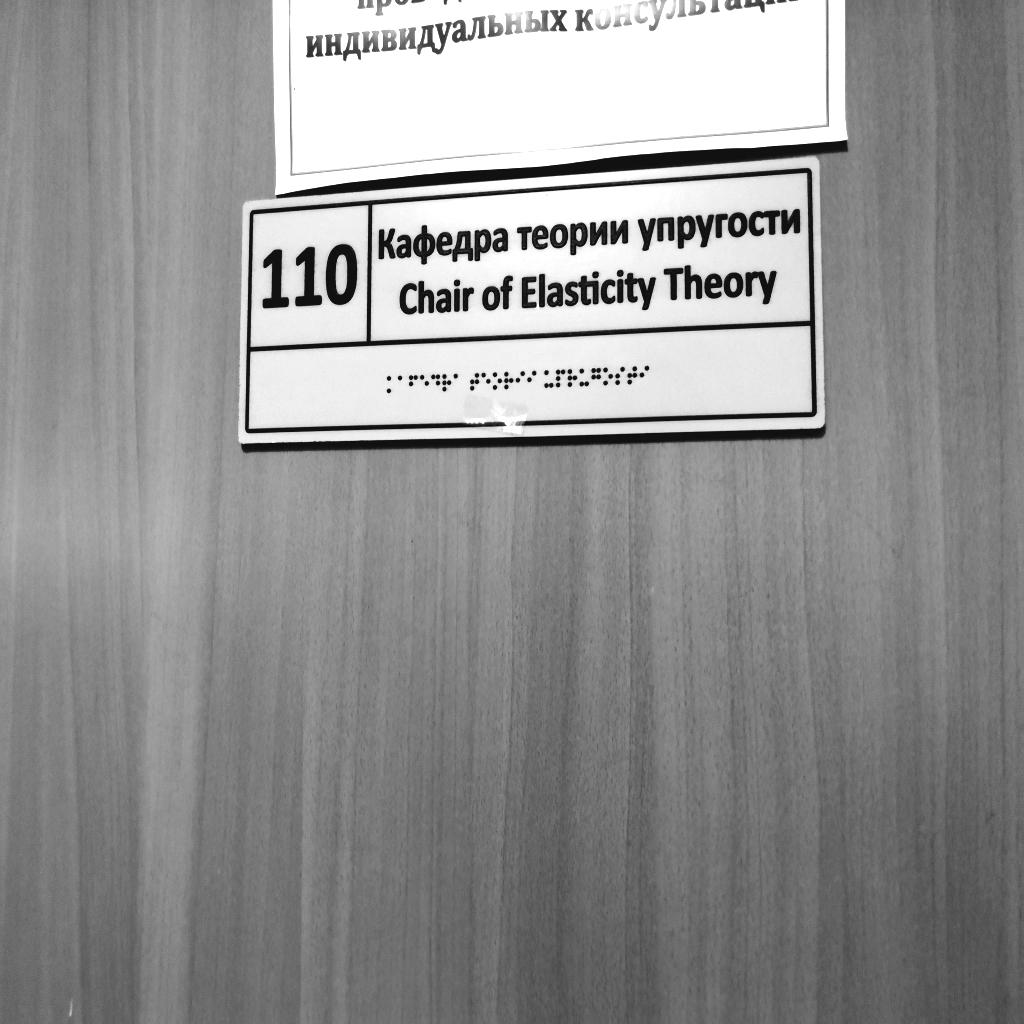_y: (544, 370, 554, 389), (579, 368, 589, 387)
a: (398, 375, 407, 392), (454, 373, 462, 390)
d: (431, 374, 440, 392)
e: (481, 372, 491, 391), (420, 374, 429, 393)
f: (409, 375, 418, 393)
g: (592, 367, 602, 388)
i: (640, 365, 650, 386), (527, 370, 537, 389), (516, 370, 525, 389)
k: (387, 376, 396, 394)
o: (603, 367, 613, 386), (493, 372, 503, 390)
p: (556, 369, 566, 388)
r: (504, 372, 514, 391), (568, 369, 578, 388), (442, 374, 451, 392)
s: (615, 366, 625, 385)
t: (627, 366, 637, 386), (470, 372, 479, 391)
